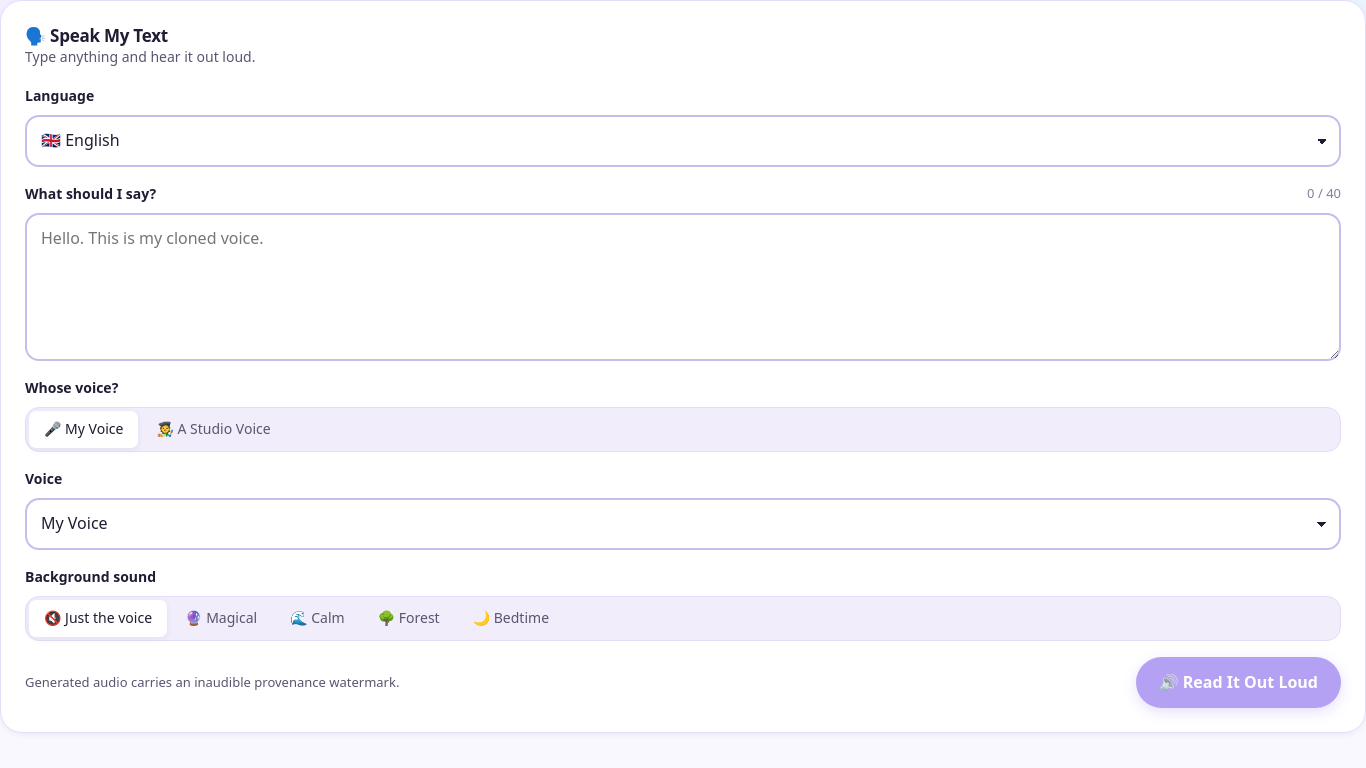
Test: GenerateForm › surfaces a server error without losing the typed text
Type "Hello there." into the text box with test id "text-input" at (683, 287), box [25, 213, 1341, 361]
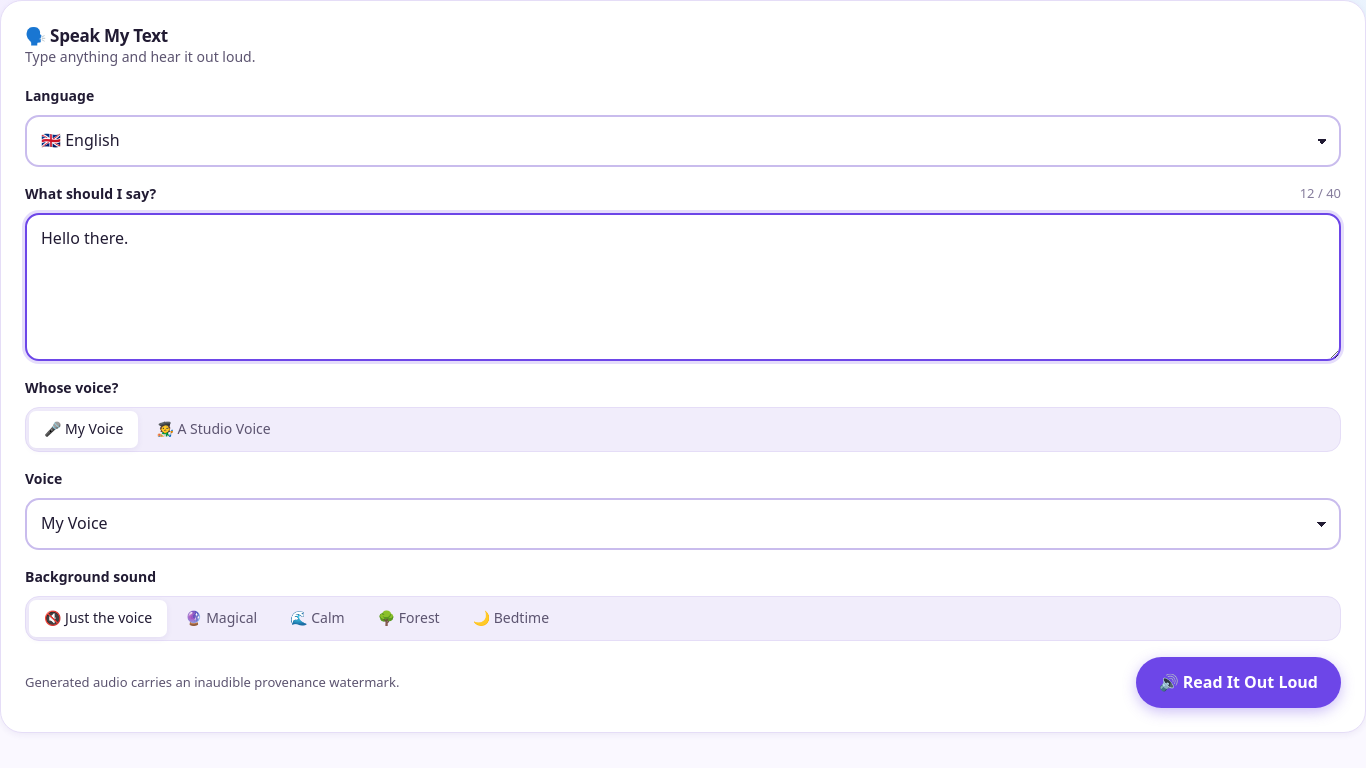
Click the button with test id "generate-submit" at (1238, 682), box [1136, 657, 1341, 708]
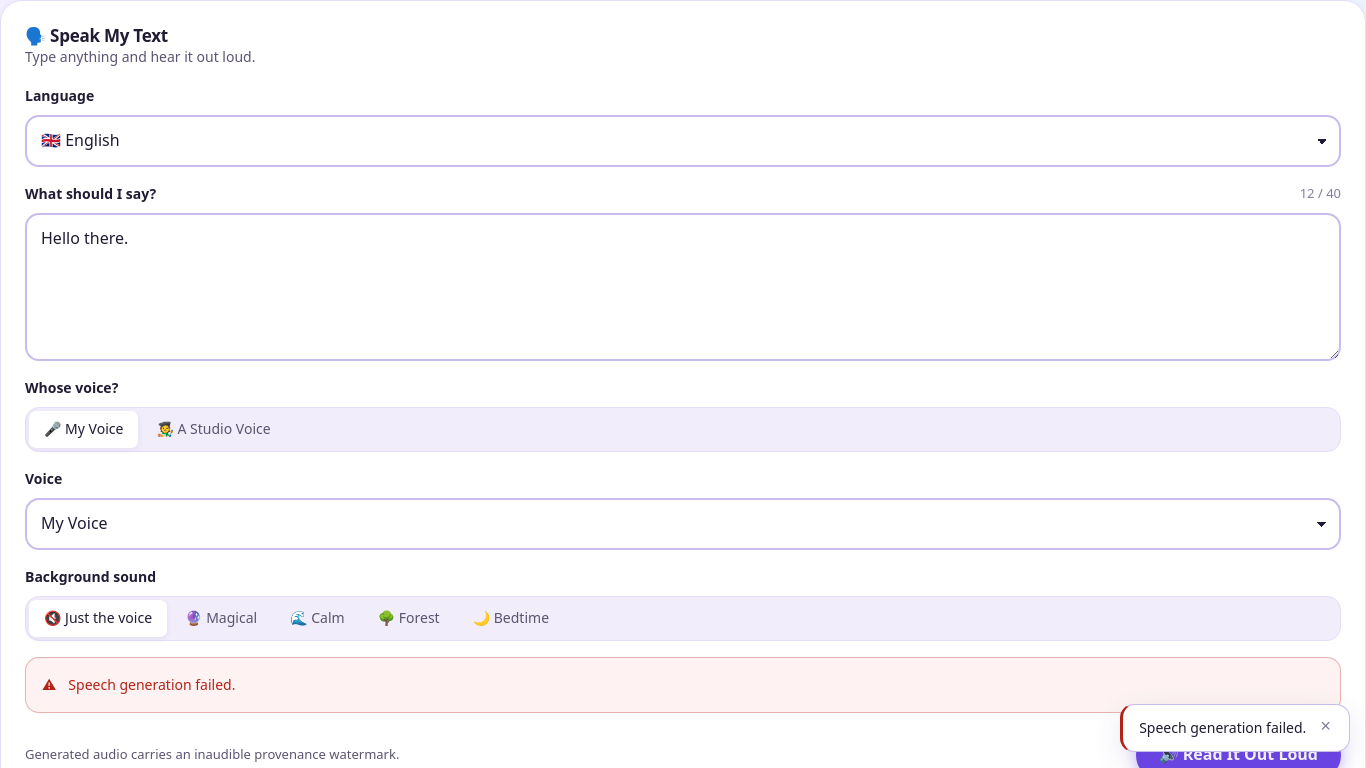
Expected: the text "Speech generation failed." is shown 2 times, [68, 674, 236, 696]; [1139, 717, 1306, 739]
Expected: the message with test id "toast-region" shows "Speech generation failed.", [1139, 718, 1306, 737]
